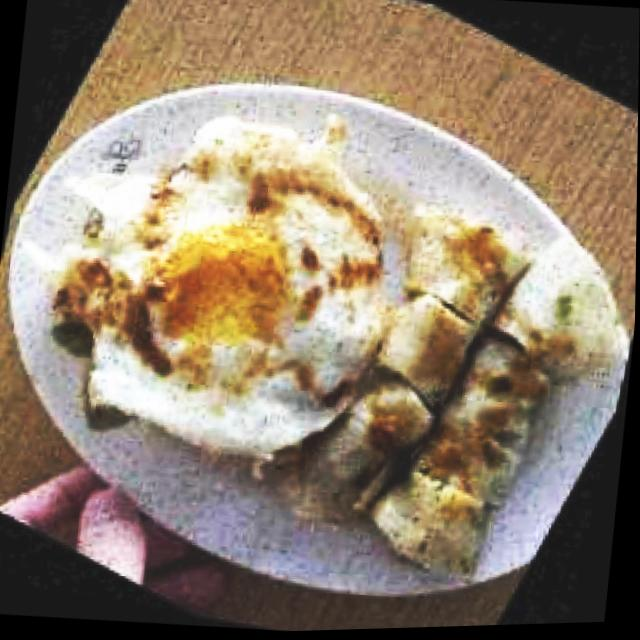fried_eggs: (75, 104, 398, 472)
